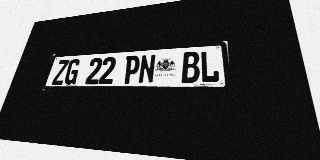2: (98, 57, 117, 84), (85, 57, 103, 84)
B: (181, 51, 200, 83)
G: (63, 59, 81, 85)
L: (200, 50, 220, 83)
N: (138, 54, 156, 84)
P: (122, 55, 141, 84)
Z: (51, 60, 70, 85)
